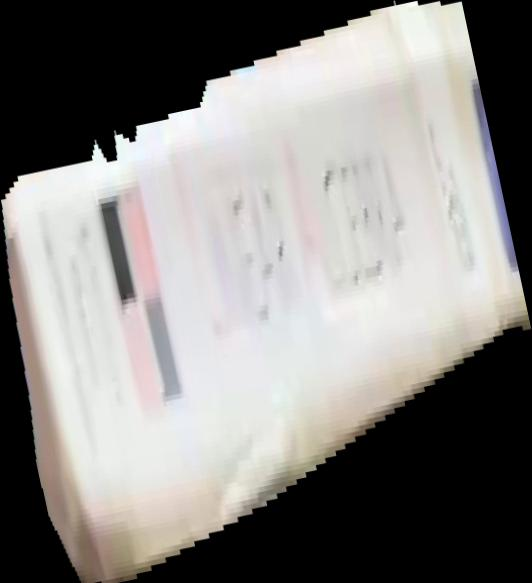flat: (1, 1, 532, 583)
